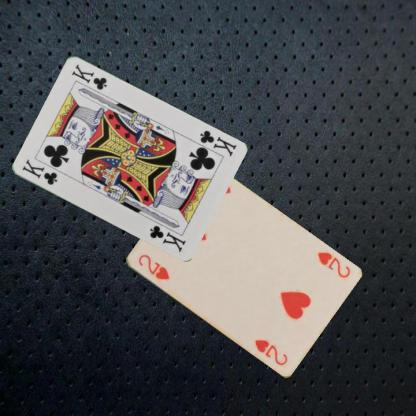2h: (314, 247, 352, 280), (134, 252, 170, 282)
Kc: (19, 156, 58, 187), (197, 128, 237, 158)
